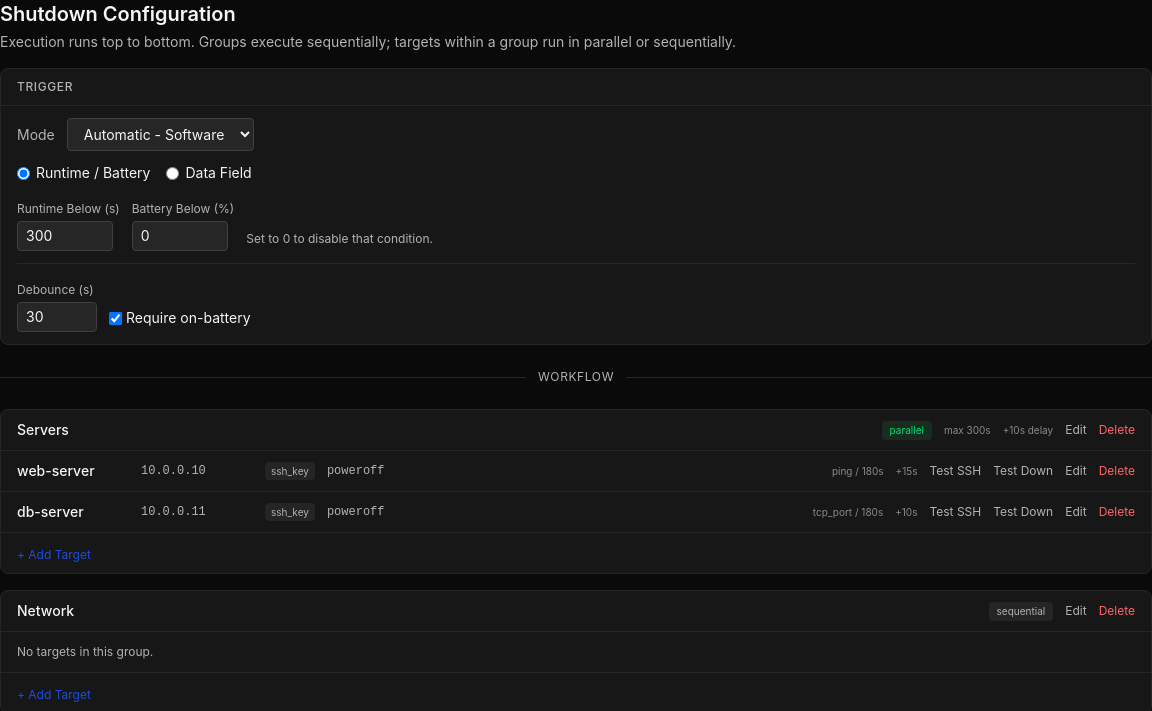
Test: ShutdownConfig — Trigger › switches to data field source
The width and height of the screenshot is (1152, 711).
Expected: the text "Runtime / Battery" is shown, [17,163,150,183]
What coordinates should you click on to do the following:
click the radio button labelled "Data Field"
I would click on:
 (173, 173)
Its box is [166,166,180,180].
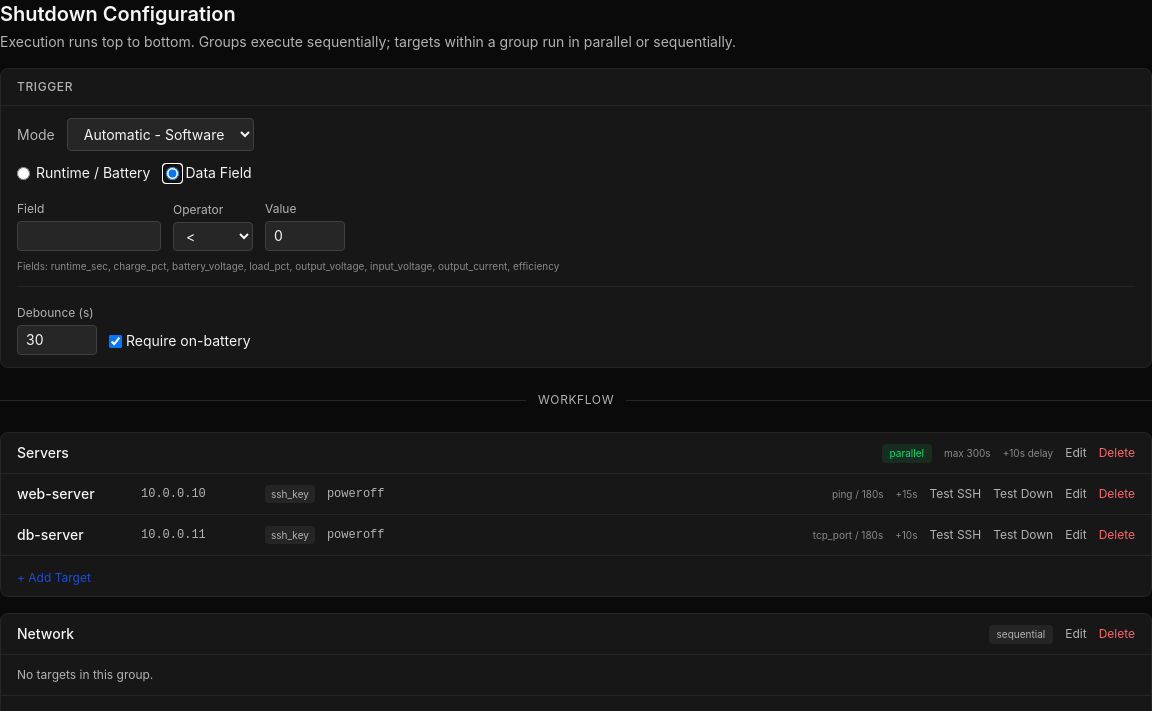
Now the text "Field" is shown, box [17,201,44,216]
Now the text "Operator" is shown, box [173,202,223,217]
